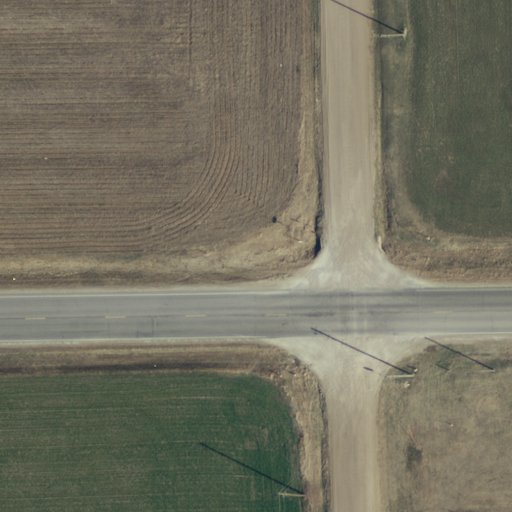DT: (368, 22, 411, 49), (269, 480, 313, 506), (379, 363, 423, 389), (473, 359, 506, 382)
